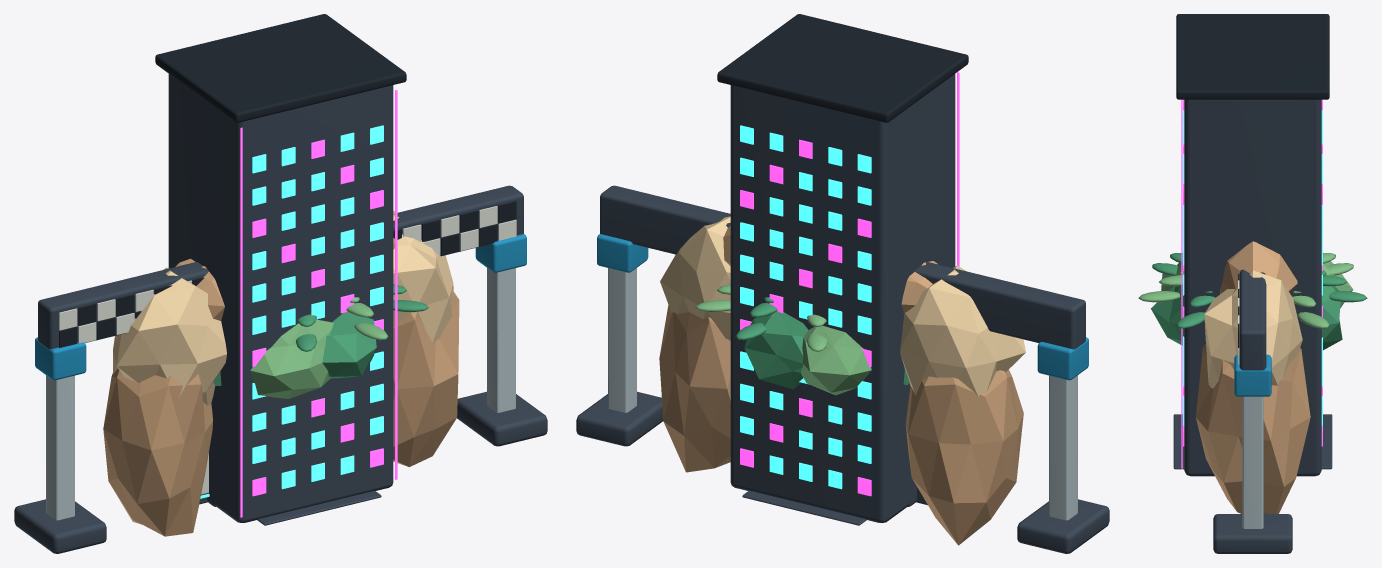
The model's file is environment-kit.glb.
3 renders of one model, left to right at view 1: azimuth 30°, elevation 25°; view 2: azimuth 150°, elevation 25°; view 3: azimuth 270°, elevation 25°, orthographic. The views are drawn at different scales.
Parts seen in each view (by area): view 1: NeonTower_Surface, DesertArch_Surface, RaceGantry_Surface, BroadleafTree_Surface, PalmTree_Surface, BoostPad_Surface; view 2: NeonTower_Surface, DesertArch_Surface, RaceGantry_Surface, BroadleafTree_Surface, PalmTree_Surface, BoostPad_Surface; view 3: NeonTower_Surface, DesertArch_Surface, RaceGantry_Surface, PalmTree_Surface, BroadleafTree_Surface, BoostPad_Surface.
Part boxes in pixels (box(x1,y1,x2,y2)): NeonTower_Surface: box(155, 14, 406, 522); DesertArch_Surface: box(103, 210, 459, 536); RaceGantry_Surface: box(14, 185, 547, 553); BroadleafTree_Surface: box(213, 312, 376, 398); PalmTree_Surface: box(295, 284, 428, 351); BoostPad_Surface: box(257, 490, 381, 525); NeonTower_Surface: box(717, 14, 968, 522); DesertArch_Surface: box(659, 216, 1025, 545); RaceGantry_Surface: box(576, 185, 1109, 553); BroadleafTree_Surface: box(744, 311, 909, 395); PalmTree_Surface: box(695, 284, 827, 351); BoostPad_Surface: box(742, 490, 866, 525); NeonTower_Surface: box(1176, 14, 1329, 476); DesertArch_Surface: box(1196, 241, 1310, 513); RaceGantry_Surface: box(1213, 269, 1292, 553); PalmTree_Surface: box(1138, 253, 1367, 328); BroadleafTree_Surface: box(1151, 261, 1353, 350); BoostPad_Surface: box(1173, 414, 1332, 469).
Size of the model in its own units: 10.1 by 8.55 by 4.33.
